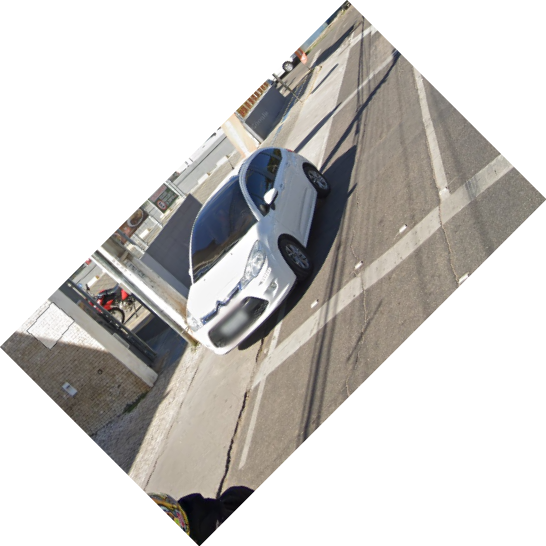car: (177, 140, 333, 358)
